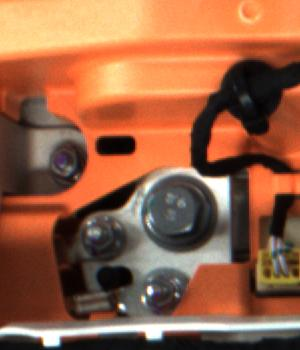nut_b: (133, 168, 215, 251)
